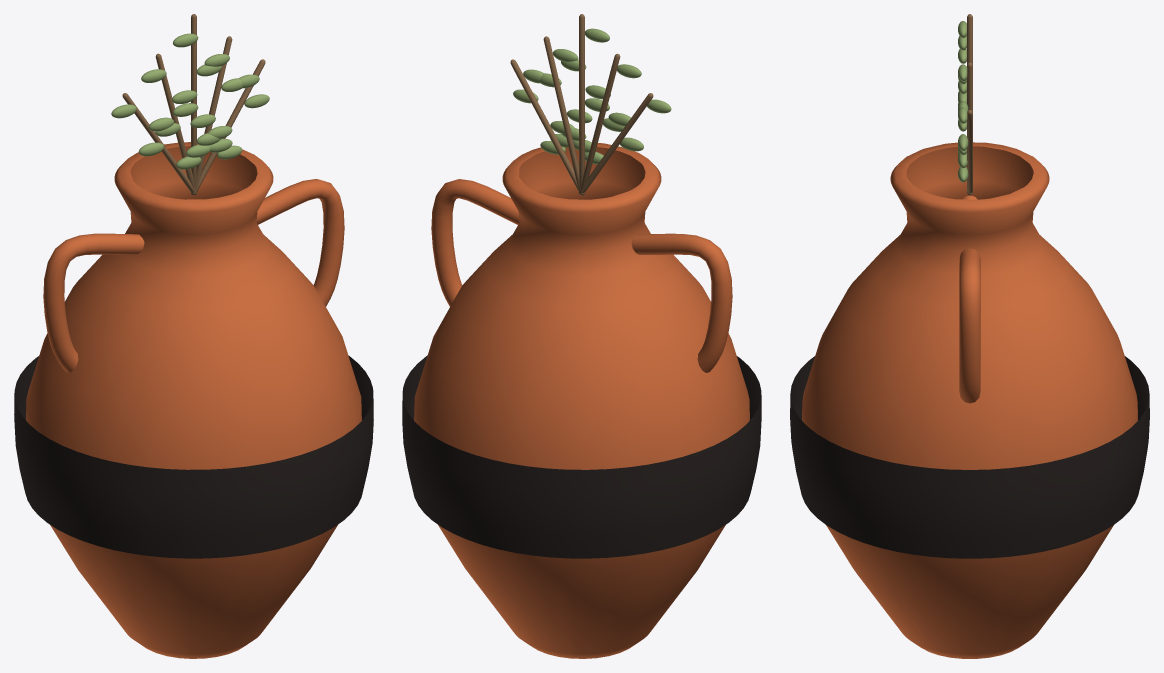
Rendered from deco_anfora_grande.glb.
The picture shows the model from 3 angles, left to right: view 1: azimuth 30°, elevation 25°; view 2: azimuth 150°, elevation 25°; view 3: azimuth 270°, elevation 25°; orthographic projection.
Visible parts, largest first — view 1: ánfora grande.001, ánfora grande banda.001, ánfora grande asa -1.001, ánfora grande asa 1.001, rama olivo 2.001, rama olivo 1.001, rama olivo 4.001, rama olivo 0.001, rama olivo 3.001; view 2: ánfora grande.001, ánfora grande banda.001, ánfora grande asa -1.001, ánfora grande asa 1.001, rama olivo 2.001, rama olivo 3.001, rama olivo 4.001, rama olivo 1.001, rama olivo 0.001; view 3: ánfora grande.001, ánfora grande banda.001, ánfora grande asa 1.001.
Boxes of the visible parts, x1=… form: ánfora grande.001: x1=26, y1=142, x2=361, y2=658; ánfora grande banda.001: x1=14, y1=355, x2=373, y2=558; ánfora grande asa -1.001: x1=43, y1=233, x2=144, y2=372; ánfora grande asa 1.001: x1=256, y1=179, x2=344, y2=306; rama olivo 2.001: x1=191, y1=14, x2=196, y2=194; rama olivo 1.001: x1=155, y1=53, x2=196, y2=194; rama olivo 4.001: x1=191, y1=59, x2=265, y2=195; rama olivo 0.001: x1=122, y1=93, x2=197, y2=194; rama olivo 3.001: x1=194, y1=36, x2=232, y2=195; ánfora grande.001: x1=414, y1=143, x2=749, y2=658; ánfora grande banda.001: x1=402, y1=355, x2=761, y2=558; ánfora grande asa -1.001: x1=631, y1=233, x2=732, y2=372; ánfora grande asa 1.001: x1=431, y1=179, x2=519, y2=306; rama olivo 2.001: x1=579, y1=14, x2=584, y2=194; rama olivo 3.001: x1=543, y1=36, x2=582, y2=195; rama olivo 4.001: x1=510, y1=59, x2=584, y2=195; rama olivo 1.001: x1=580, y1=53, x2=620, y2=194; rama olivo 0.001: x1=578, y1=93, x2=653, y2=194; ánfora grande.001: x1=802, y1=142, x2=1137, y2=658; ánfora grande banda.001: x1=790, y1=356, x2=1149, y2=558; ánfora grande asa 1.001: x1=959, y1=248, x2=980, y2=403.
Size of the model in its own units: 0.5257 by 1.01 by 0.5257.
